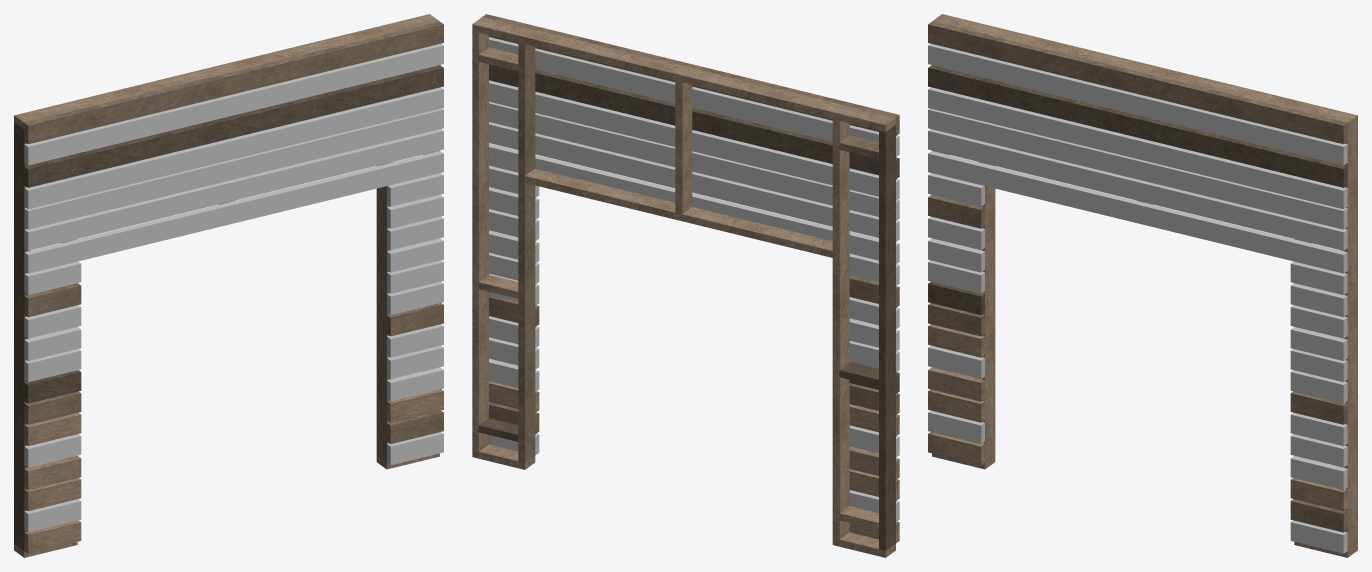
Rendered from WallPeiceDoorWayB.fbx.
3 views of the same model, side by side, from view 1: azimuth 30°, elevation 25°; view 2: azimuth 150°, elevation 25°; view 3: azimuth 330°, elevation 25° (orthographic).
Parts seen in each view (by area): view 1: WallPeiceDoorwayB; view 2: WallPeiceDoorwayB; view 3: WallPeiceDoorwayB.
Part boxes in pixels (left/top/right/bottom): WallPeiceDoorwayB: left=14, top=14, right=443, bottom=557; WallPeiceDoorwayB: left=472, top=14, right=899, bottom=557; WallPeiceDoorwayB: left=928, top=14, right=1357, bottom=557.
Size of the model in its own units: 374 by 374 by 22.
